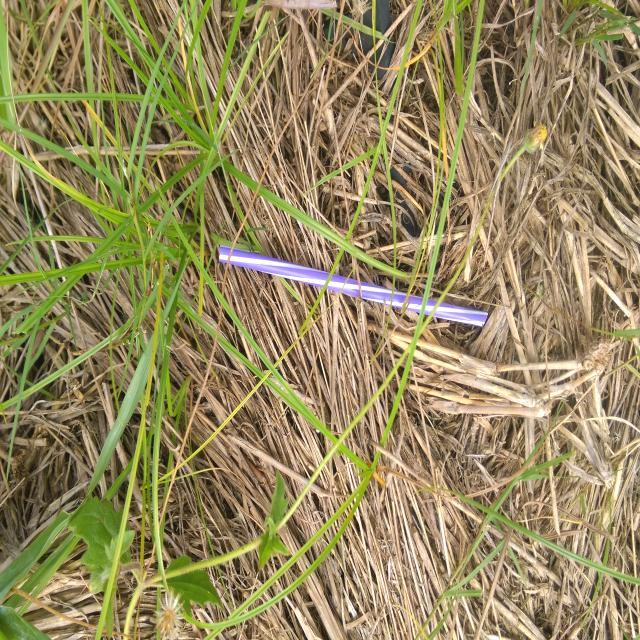Plastic straw: (219, 244, 488, 327)
